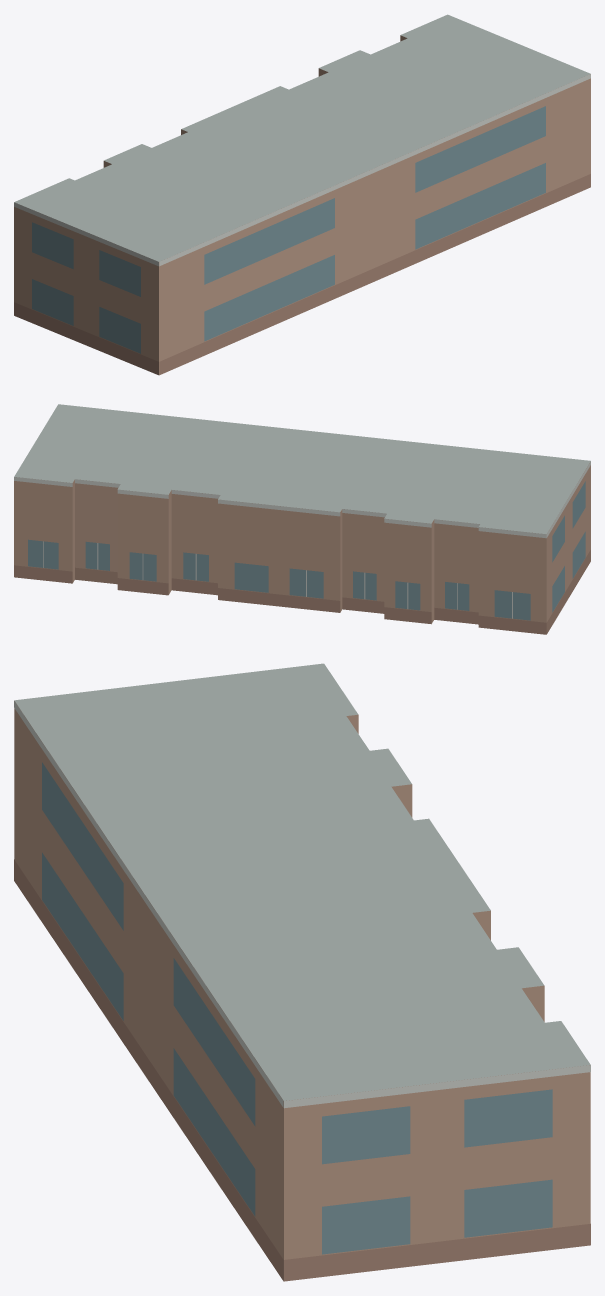
Rendered from survey-upis-32823263.glb.
3 views of the same model, one above another, from view 1: azimuth 30°, elevation 25°; view 2: azimuth 150°, elevation 25°; view 3: azimuth 270°, elevation 25° (orthographic). The views are drawn at different scales.
Parts seen in each view (by area): view 1: survey-upis-32823263.tmp; view 2: survey-upis-32823263.tmp; view 3: survey-upis-32823263.tmp.
Part boxes in pixels (x1,y1,x2,y2): survey-upis-32823263.tmp: (14,14,590,375); survey-upis-32823263.tmp: (14,404,590,634); survey-upis-32823263.tmp: (14,663,590,1281).
Bounding box in the file's own units: 31.74 × 6.1 × 17.68.
